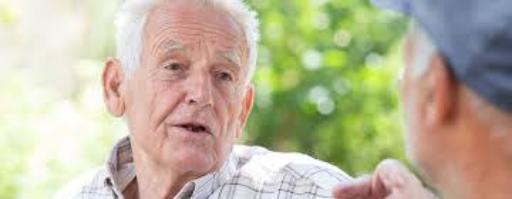left_eye: (215, 70, 233, 82)
left_lip_corner: (205, 127, 214, 137)
right_eye: (162, 59, 184, 72)
right_lip_corner: (169, 122, 178, 129)
